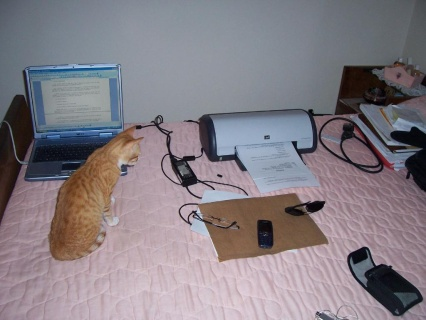Cat: (45, 125, 145, 262)
